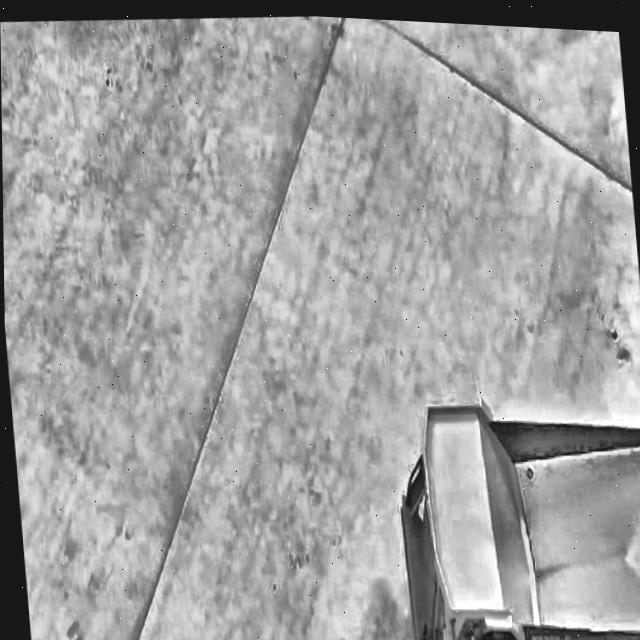dump_truck: (382, 386, 640, 640)
